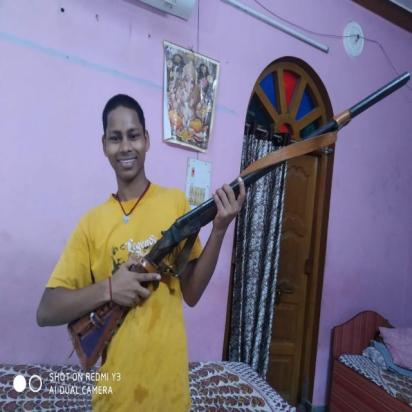Gun: (66, 69, 412, 376)
